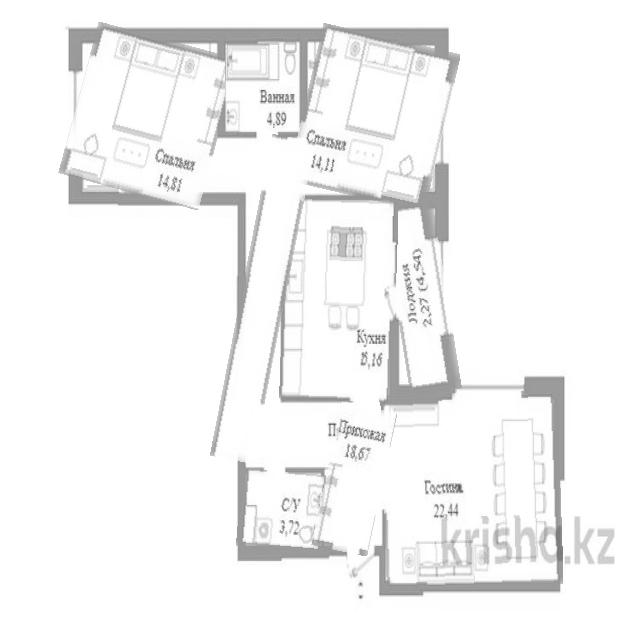balcony: (388, 202, 455, 395)
bathroom: (225, 33, 304, 131), (238, 470, 324, 552)
hallway: (226, 134, 300, 464), (319, 403, 390, 554)
kitchen: (280, 200, 396, 401)
living_room: (382, 391, 561, 588), (67, 29, 230, 202), (295, 30, 452, 206)
